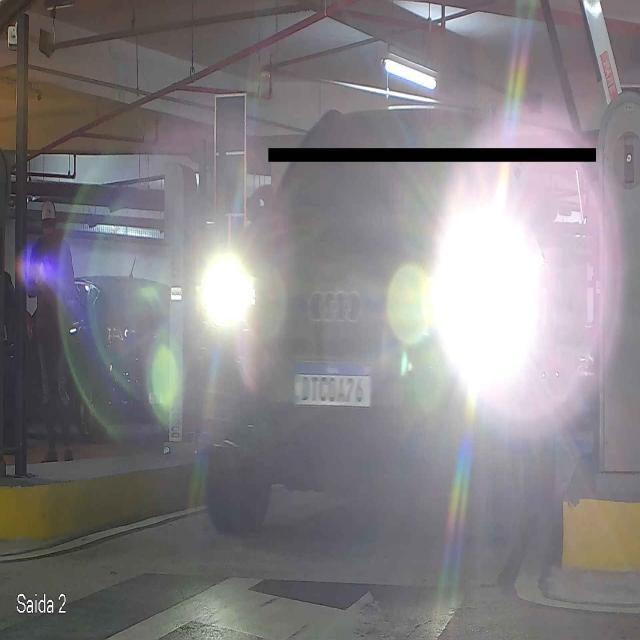mercosul_plate: (293, 358, 372, 409)
